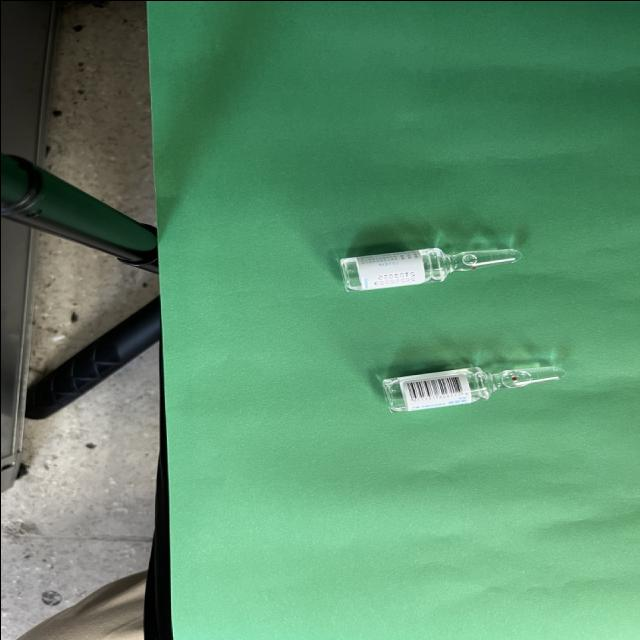Ampoules: (381, 363, 561, 411), (339, 246, 519, 290)
